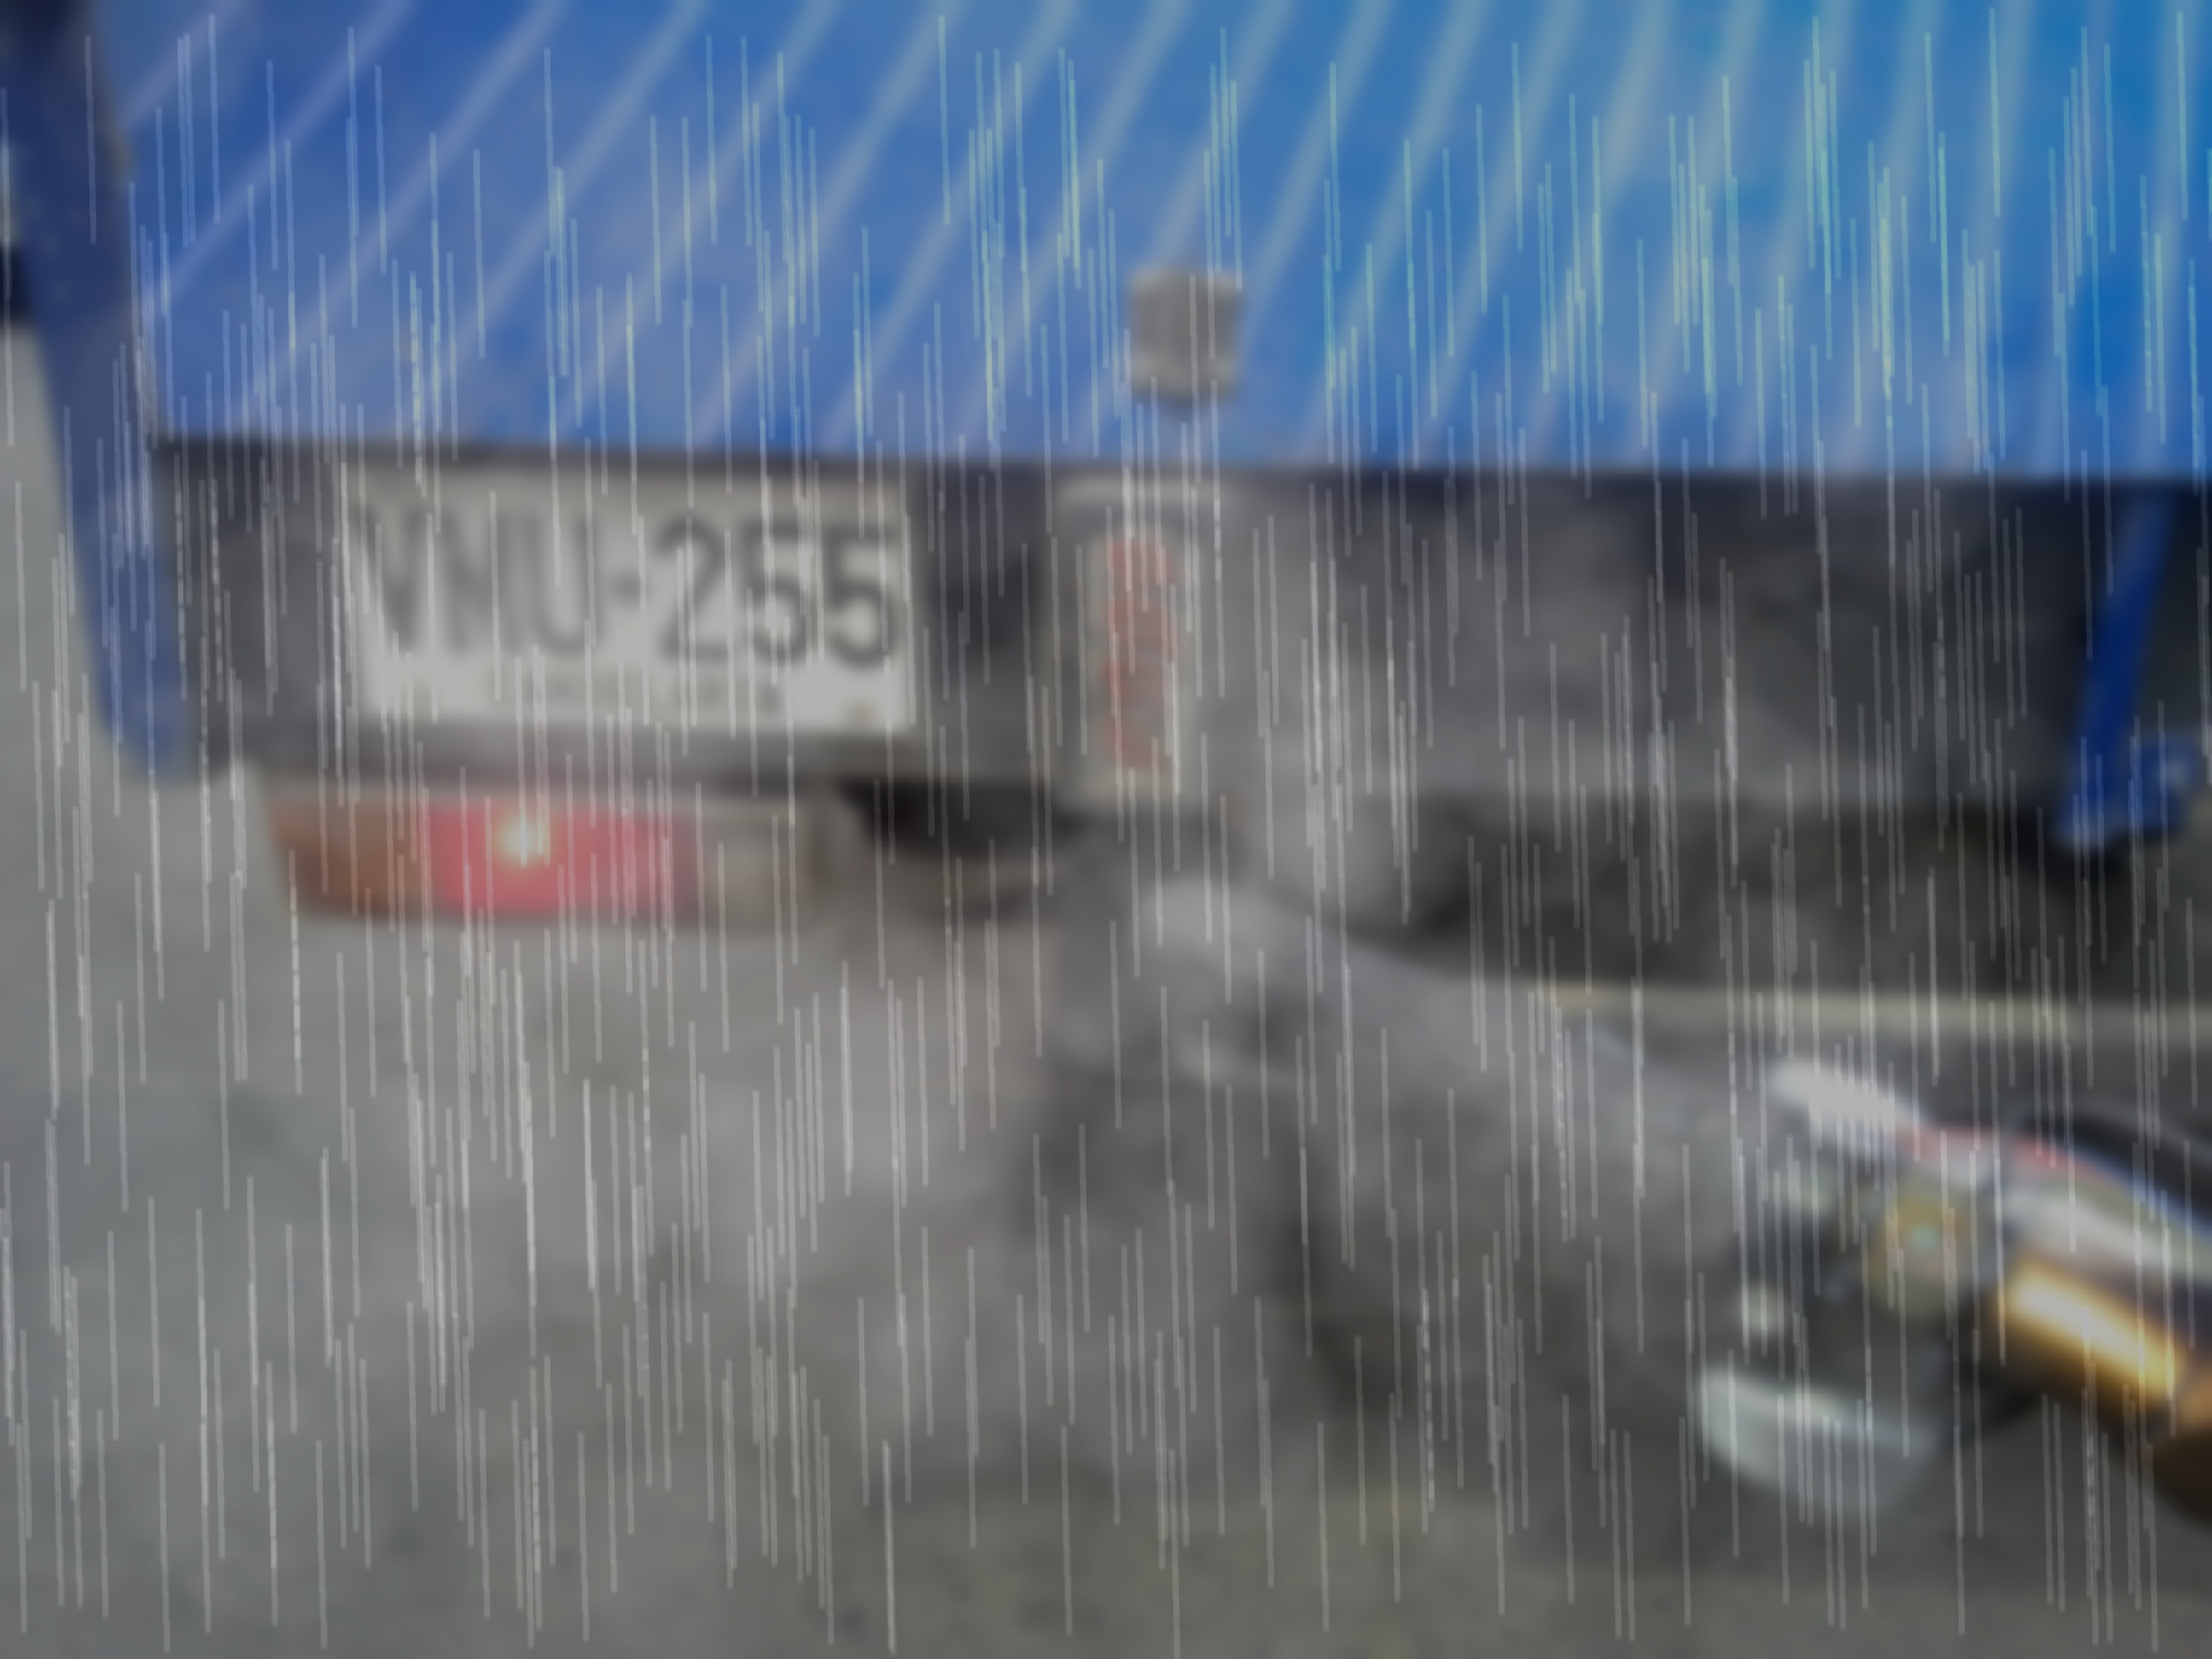placas: (315, 438, 935, 753)
